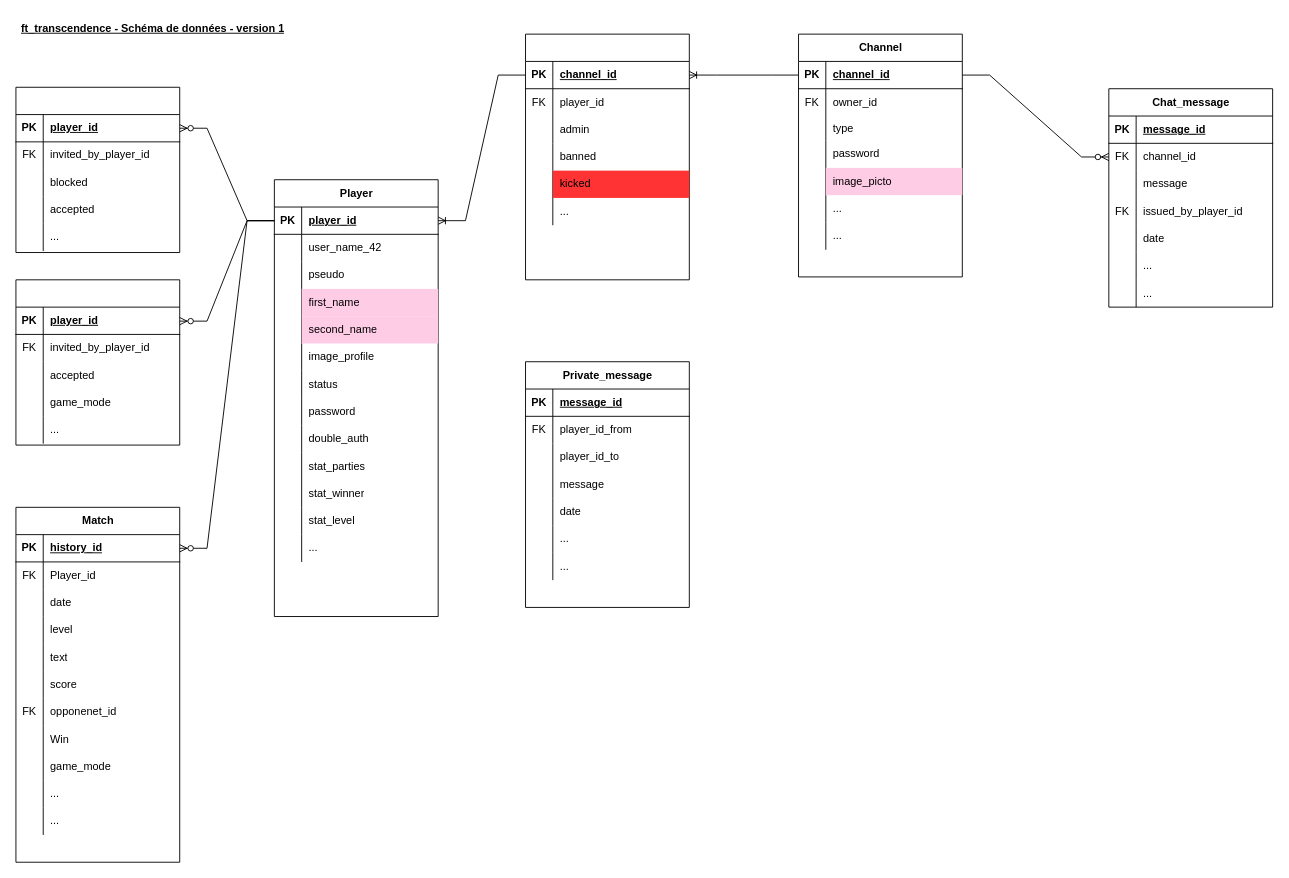
This 1289x878 diagram has some shape labels left out. Each missing label, with the box of its shape:
Match_making: (15, 279, 180, 445)
Relation Channel: (525, 33, 689, 280)
Relationship: (15, 86, 180, 253)
